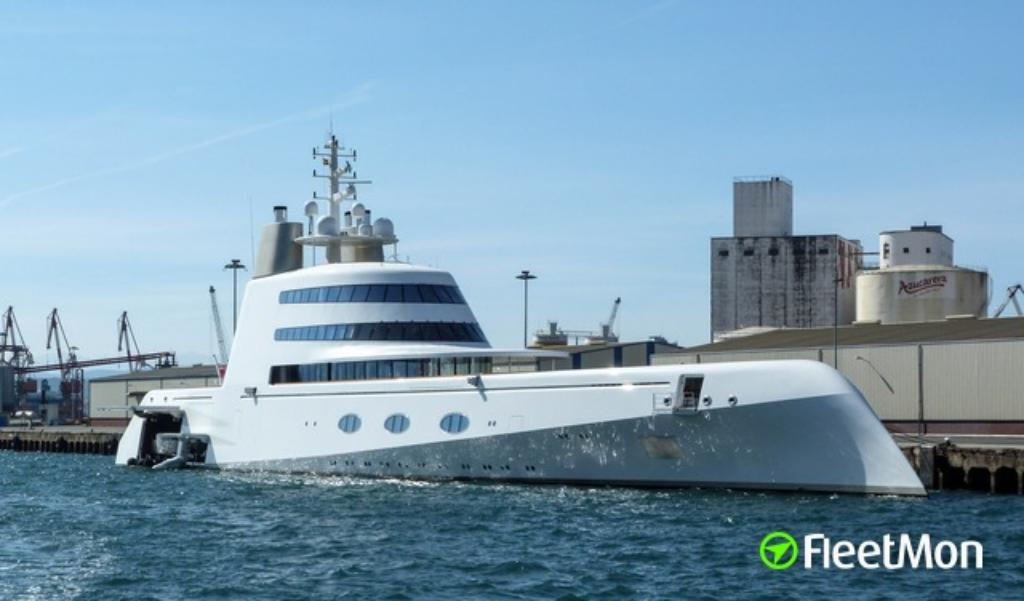PassengerShip: (115, 136, 929, 496)
